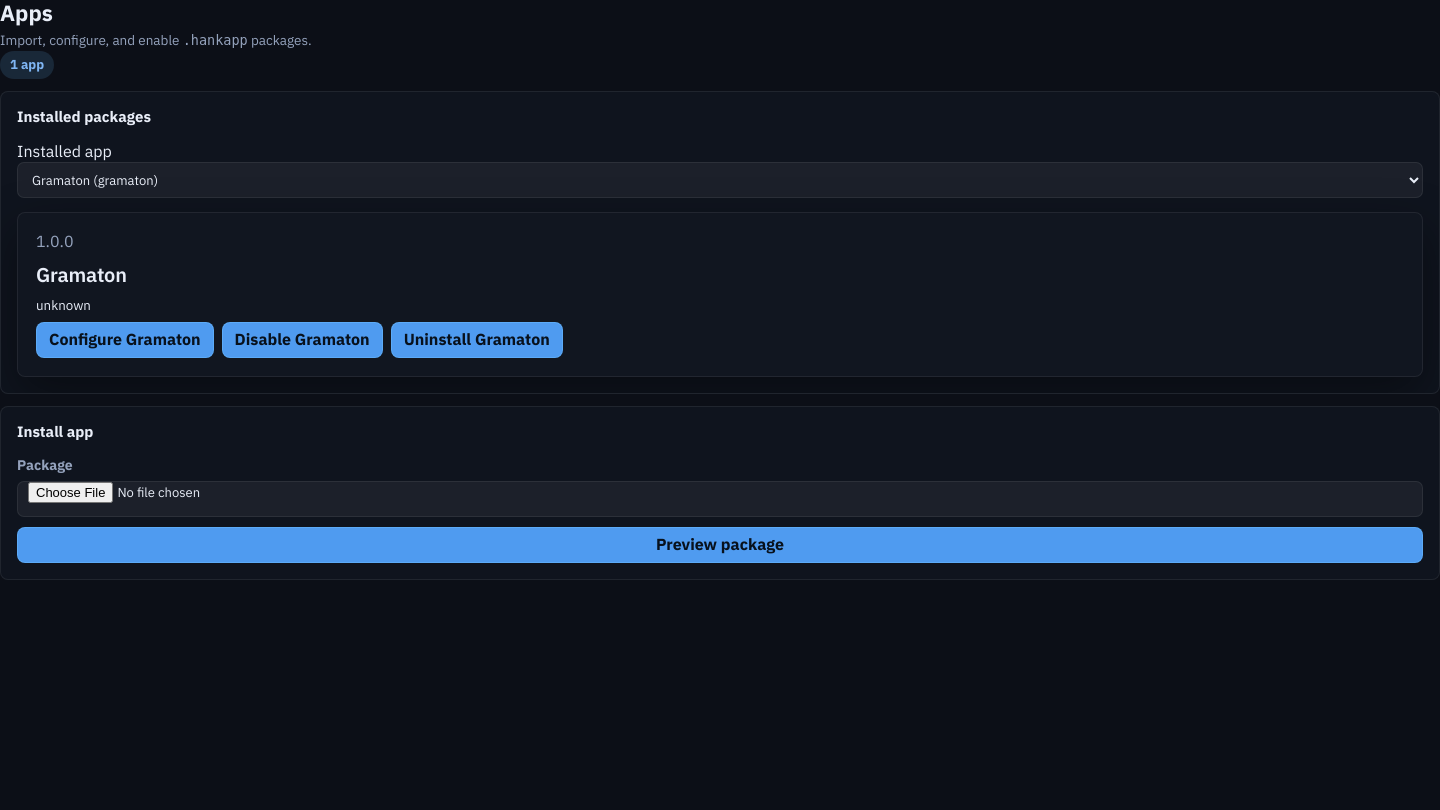
Test case: AppsSettings search targets › requires confirmation before uninstalling an app
The image size is (1440, 810).
Click the button "Uninstall Gramaton" at x=477, y=340, box [391,322,563,358]
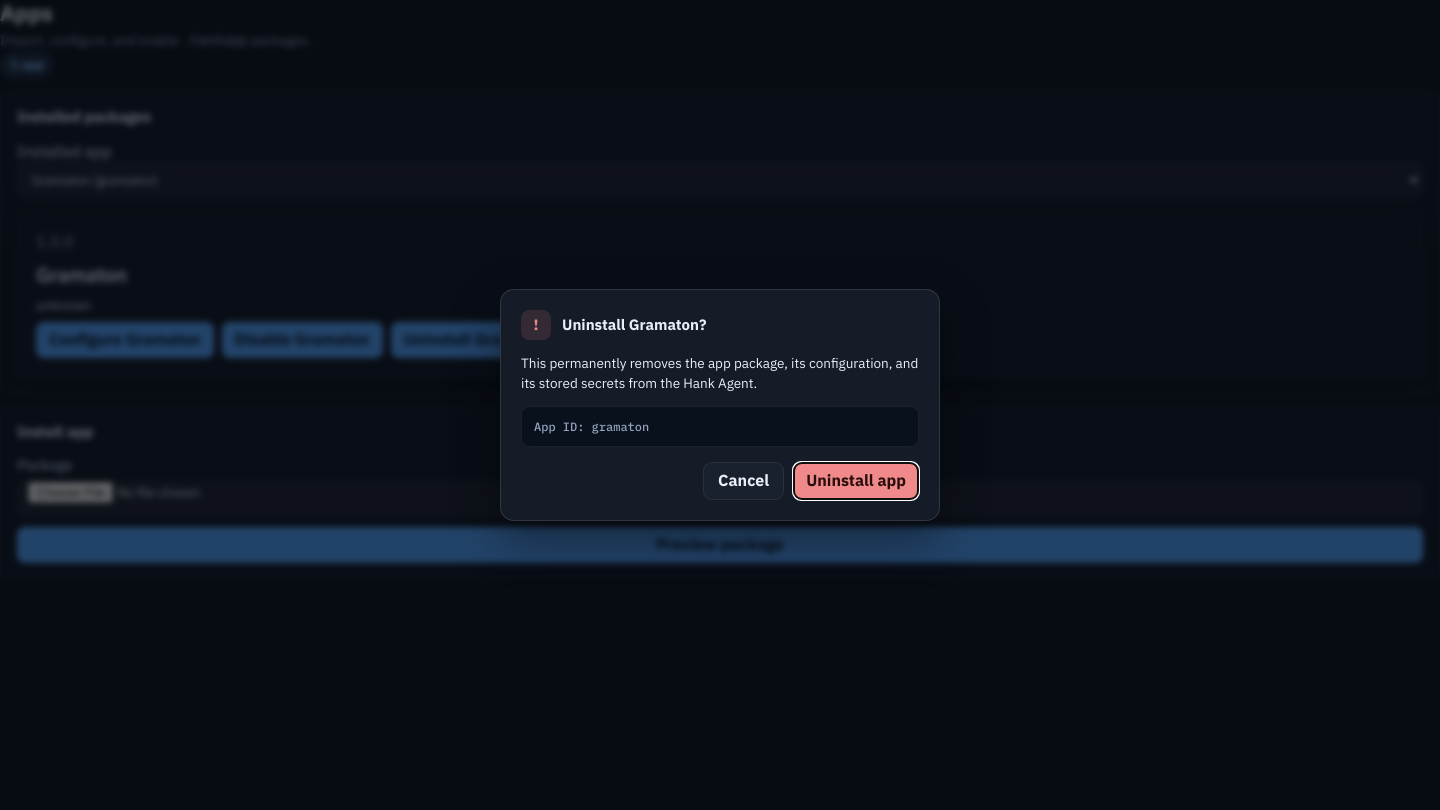
Expected: the dialog shows "permanently removes the app package", [521,354,918,392]
Click the button "Uninstall app" at x=856, y=481, box [793,462,919,500]
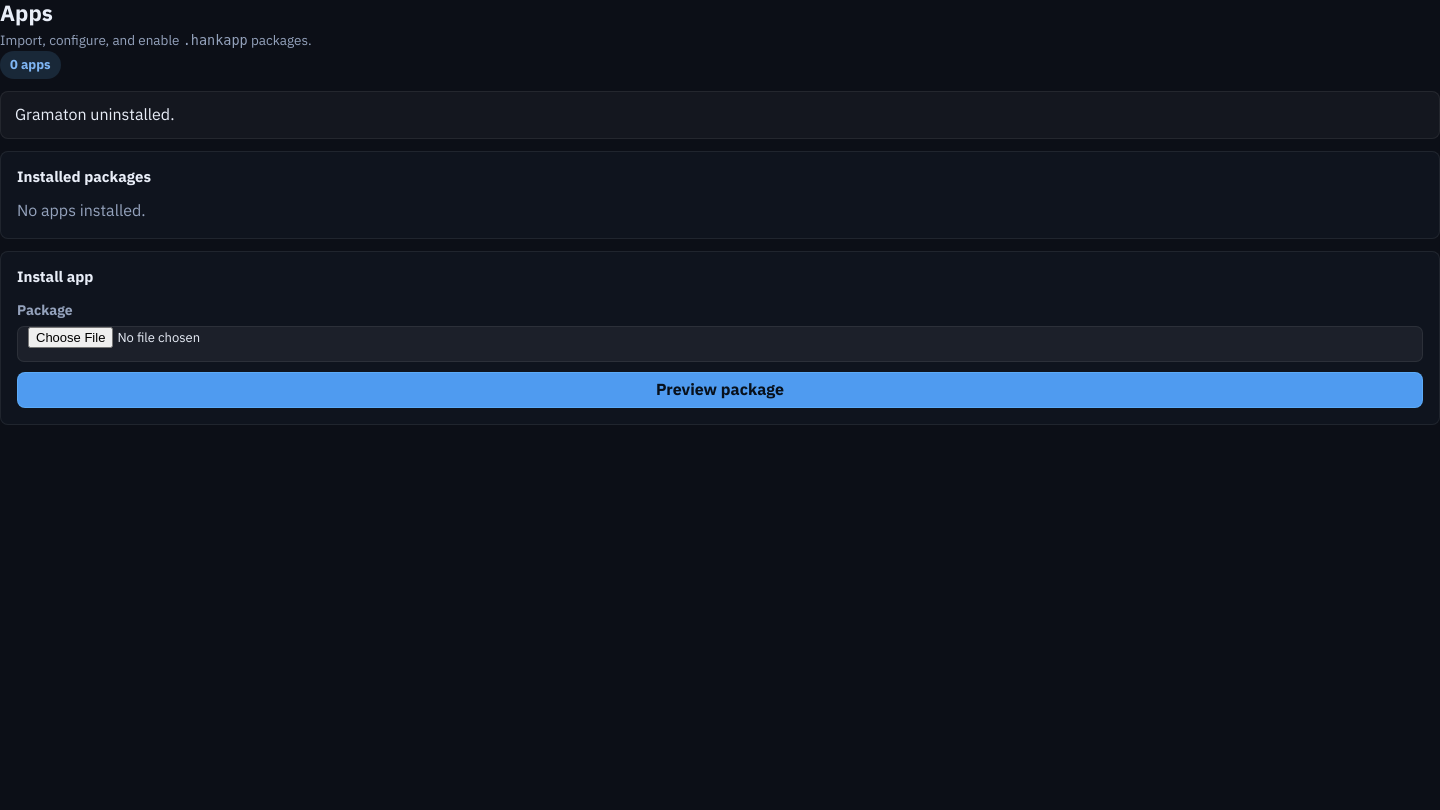
Expected: the text "Gramaton uninstalled." is shown, [0,91,1439,139]
Expected: the text "No apps installed." is shown, [17,200,146,220]
